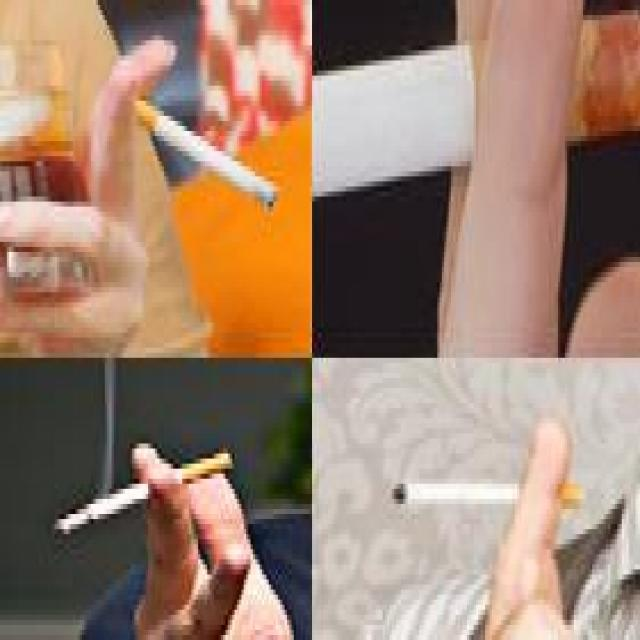cigarette: (312, 5, 638, 242), (128, 93, 282, 209), (51, 448, 236, 534), (385, 479, 581, 504)
